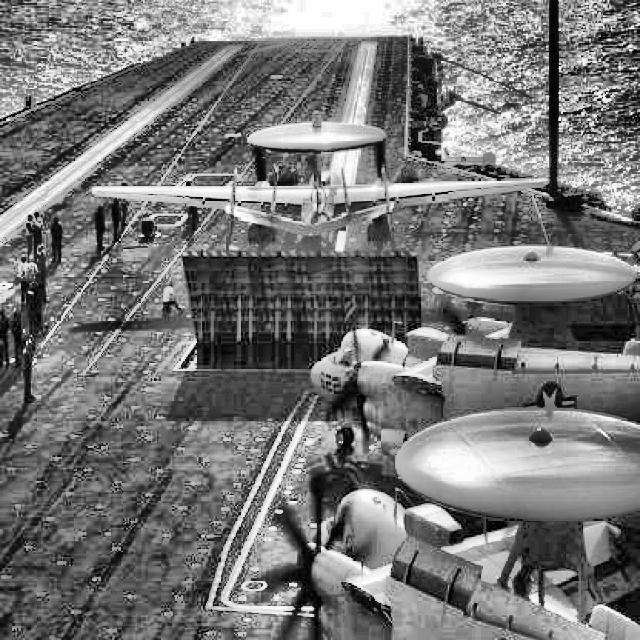E2: (259, 407, 639, 639), (311, 244, 640, 462), (91, 111, 546, 252)
